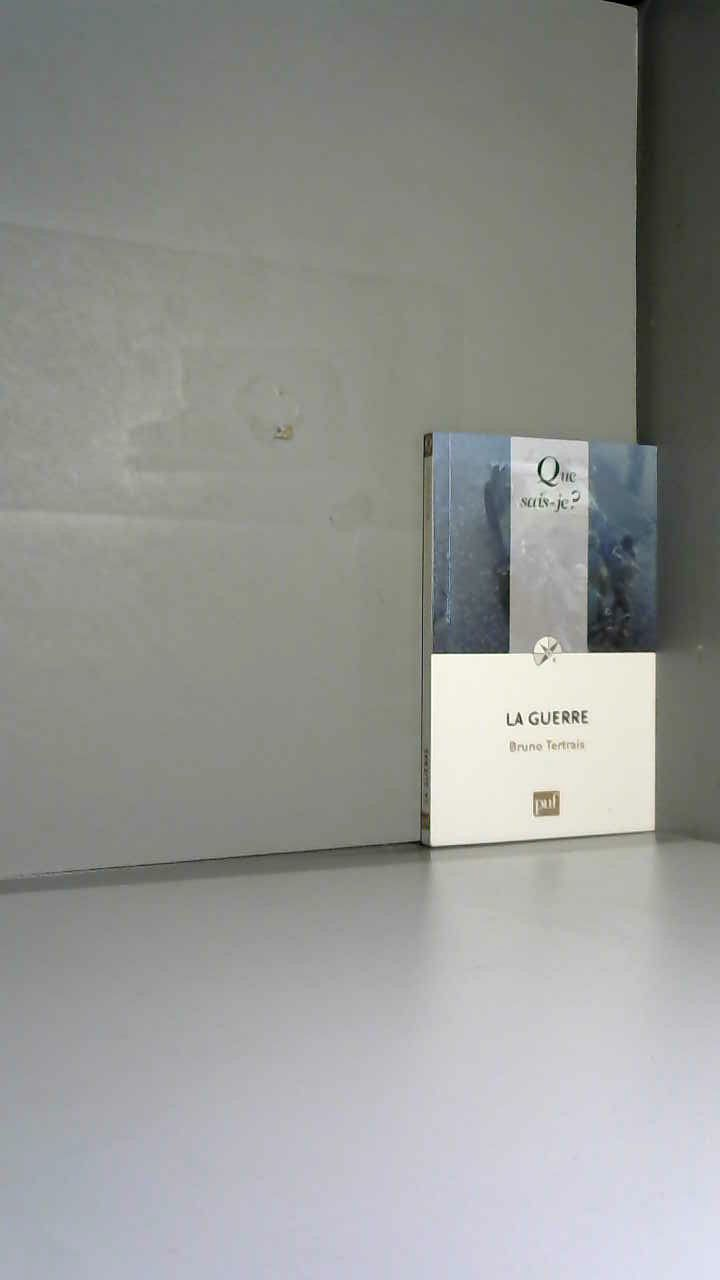book: (400, 410, 716, 894)
